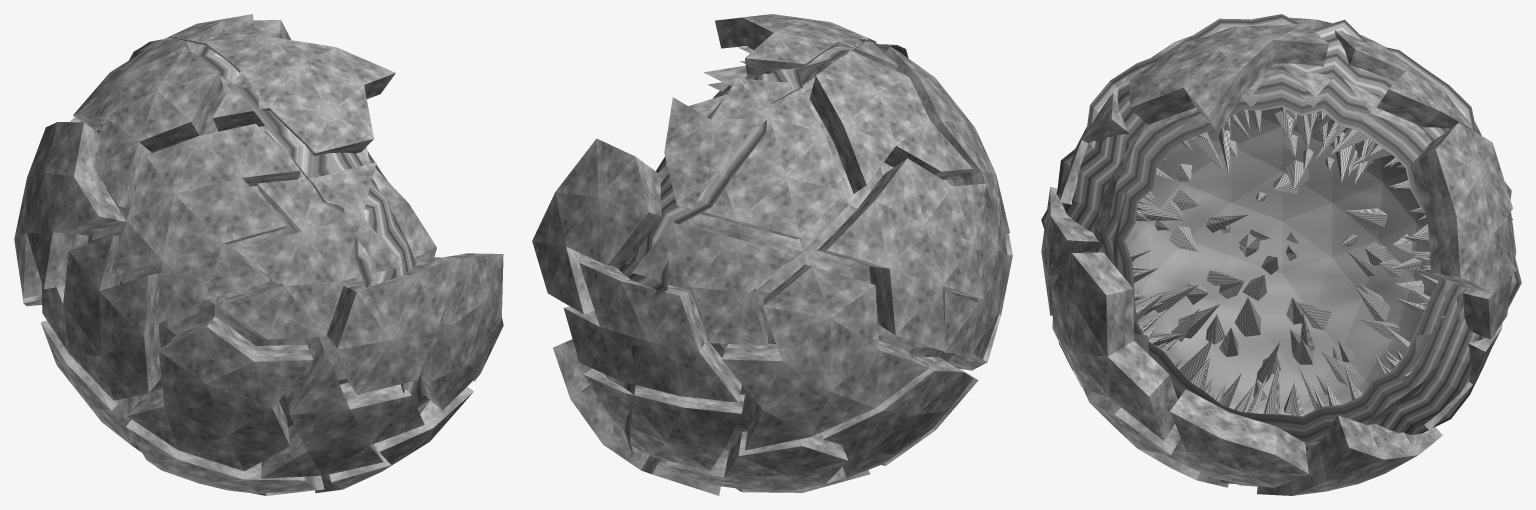
File: geode-sample.glb
3 views of the same model, side by side, from view 1: azimuth 30°, elevation 25°; view 2: azimuth 150°, elevation 25°; view 3: azimuth 270°, elevation 25° (orthographic). The views are drawn at different scales.
Parts seen in each view (by area): view 1: GeodeShell, GeodeCore, GeodeBanding; view 2: GeodeShell, GeodeCore, GeodeBanding; view 3: GeodeShell, GeodeCavity, GeodeBanding, GeodeDruzy, GeodeCore.
Boxes of the visible parts, <box> form: GeodeShell: <box>14,14,503,495</box>; GeodeCore: <box>87,75,436,427</box>; GeodeBanding: <box>129,36,429,425</box>; GeodeShell: <box>532,14,1012,495</box>; GeodeCore: <box>611,47,954,450</box>; GeodeBanding: <box>605,38,908,452</box>; GeodeShell: <box>1041,17,1516,495</box>; GeodeCavity: <box>1113,94,1449,428</box>; GeodeBanding: <box>1041,14,1521,483</box>; GeodeDruzy: <box>1130,107,1444,416</box>; GeodeCore: <box>1093,68,1467,446</box>.
Bounding box in the file's own units: 0.9752 × 1.03 × 1.04.
5 materials, 5 textured.
